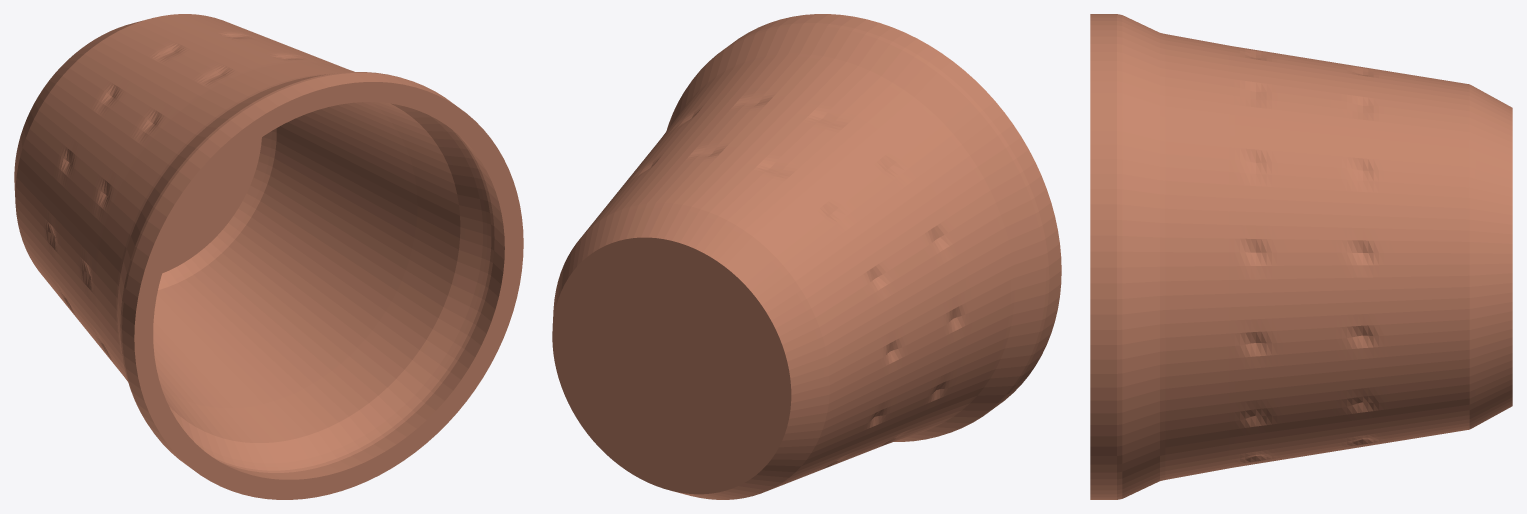
The model's file is Pot_10_Etched_Dot_Band.glb.
3 renders of one model, left to right at view 1: azimuth 30°, elevation 25°; view 2: azimuth 150°, elevation 25°; view 3: azimuth 270°, elevation 25°, orthographic. The views are drawn at different scales.
Parts seen in each view (by area): view 1: Pot_10_Etched_Dot_Band; view 2: Pot_10_Etched_Dot_Band; view 3: Pot_10_Etched_Dot_Band.
Boxes of the visible parts, bbox=[...] form: Pot_10_Etched_Dot_Band: bbox=[14, 14, 523, 499]; Pot_10_Etched_Dot_Band: bbox=[552, 14, 1061, 499]; Pot_10_Etched_Dot_Band: bbox=[1090, 14, 1512, 499].
Size of the model in its own units: 0.228 by 0.228 by 0.198.
